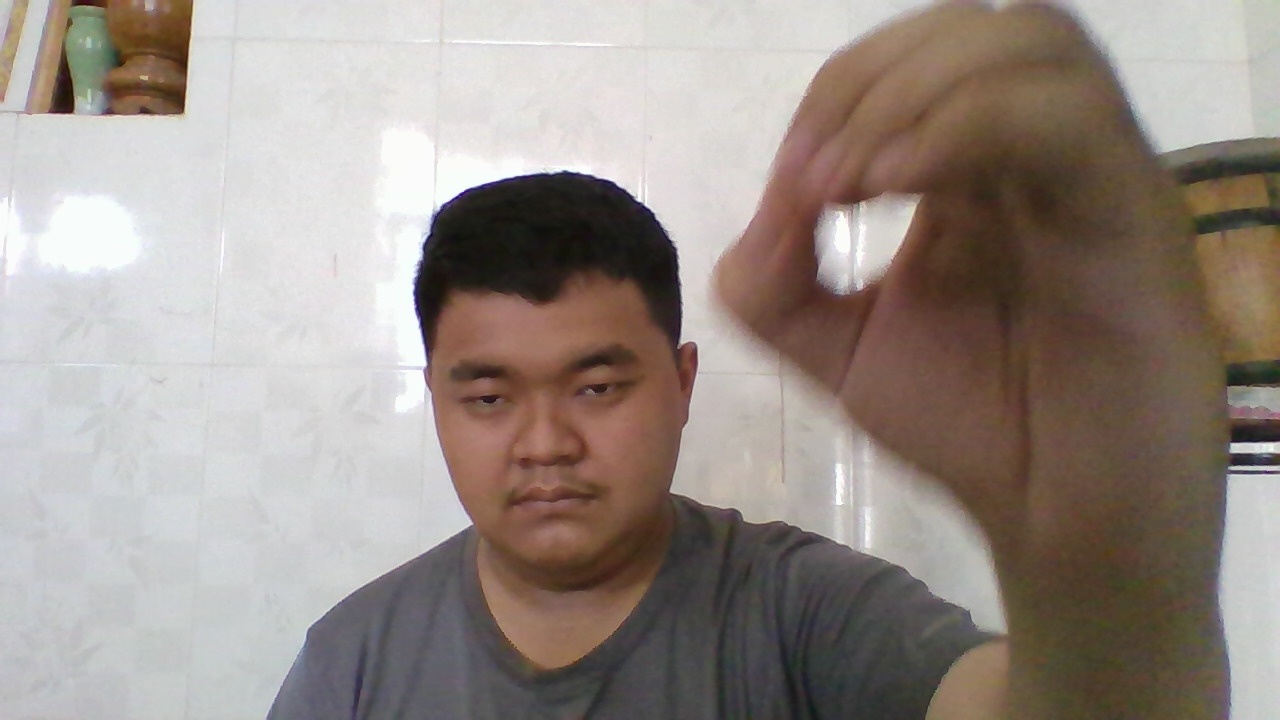O: (729, 0, 1134, 540)
